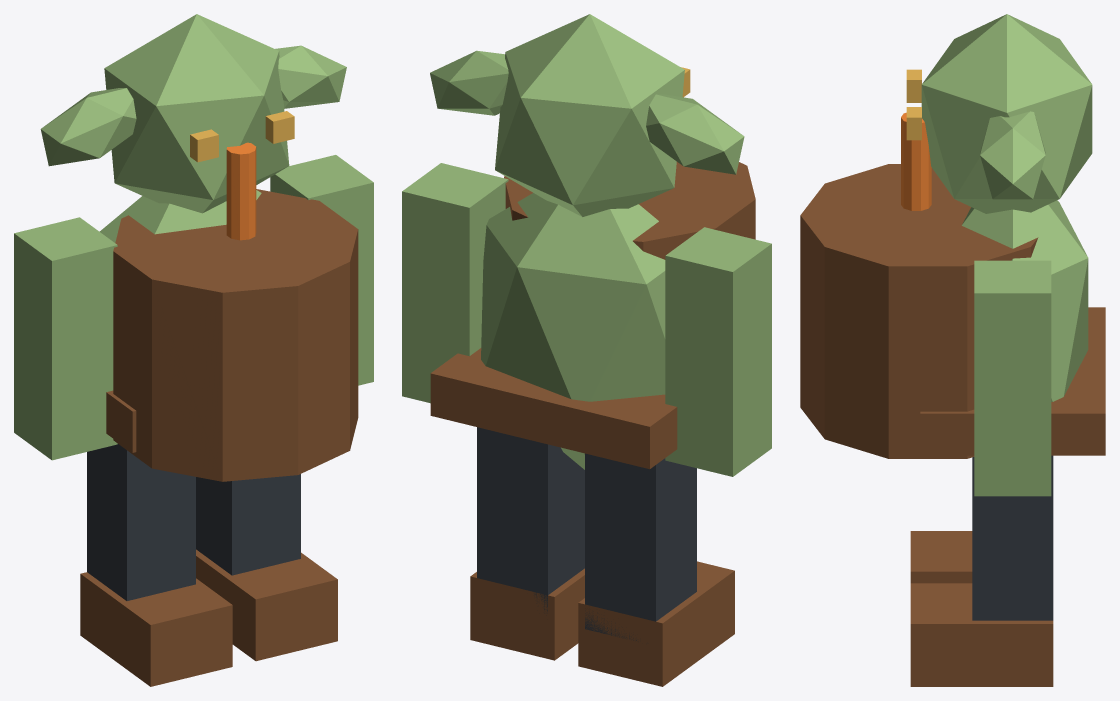
File: unstable.fbx
The picture shows the model from 3 angles, left to right: view 1: azimuth 30°, elevation 25°; view 2: azimuth 150°, elevation 25°; view 3: azimuth 270°, elevation 25°; orthographic projection. The views are drawn at different scales.
Parts seen in each view (by area): view 1: PowderKeg, Head.003, ArmLMesh.003, LegLMesh.003, Boot.006, Boot.007, LegRMesh.003, ArmRMesh.003, Ear.006, Ear.007, Fuse, Torso.003 (+3 smaller); view 2: Torso.003, Head.003, ArmLMesh.003, ArmRMesh.003, LegLMesh.003, LegRMesh.003, Belt.003, Boot.006, PowderKeg, Boot.007, Ear.006, Ear.007; view 3: PowderKeg, Head.003, ArmRMesh.003, Boot.007, LegRMesh.003, Torso.003, Belt.003, Ear.007, Boot.006, Fuse, Eye.006, Eye.007.
Boxes of the visible parts, x1,y1,x2,y2 form: PowderKeg: (113, 189, 358, 481); Head.003: (104, 14, 289, 213); ArmLMesh.003: (14, 217, 117, 460); LegLMesh.003: (87, 444, 195, 600); Boot.006: (80, 572, 232, 686); Boot.007: (196, 549, 337, 661); LegRMesh.003: (196, 474, 300, 575); ArmRMesh.003: (270, 155, 373, 385); Ear.006: (40, 88, 136, 166); Ear.007: (275, 45, 346, 108); Fuse: (226, 142, 256, 240); Torso.003: (99, 190, 261, 242); Torso.003: (481, 193, 665, 469); Head.003: (495, 14, 684, 216); ArmLMesh.003: (665, 227, 771, 476); ArmRMesh.003: (402, 163, 508, 403); LegLMesh.003: (585, 453, 696, 641); LegRMesh.003: (477, 427, 584, 615); Belt.003: (430, 348, 677, 469); Boot.006: (578, 561, 734, 686); PowderKeg: (504, 162, 755, 259); Boot.007: (470, 568, 584, 660); Ear.006: (646, 94, 744, 174); Ear.007: (430, 50, 508, 115); PowderKeg: (800, 164, 1038, 458); Head.003: (921, 14, 1092, 213); ArmRMesh.003: (974, 260, 1051, 496); Boot.007: (910, 583, 1053, 686); LegRMesh.003: (972, 455, 1053, 620); Torso.003: (962, 200, 1088, 401); Belt.003: (920, 307, 1105, 455); Ear.007: (980, 111, 1045, 199); Boot.006: (910, 531, 972, 583); Fuse: (901, 112, 931, 210); Eye.006: (906, 69, 921, 102); Eye.007: (906, 107, 921, 140).
Bounding box in the file's own units: 98 × 179 × 79.
